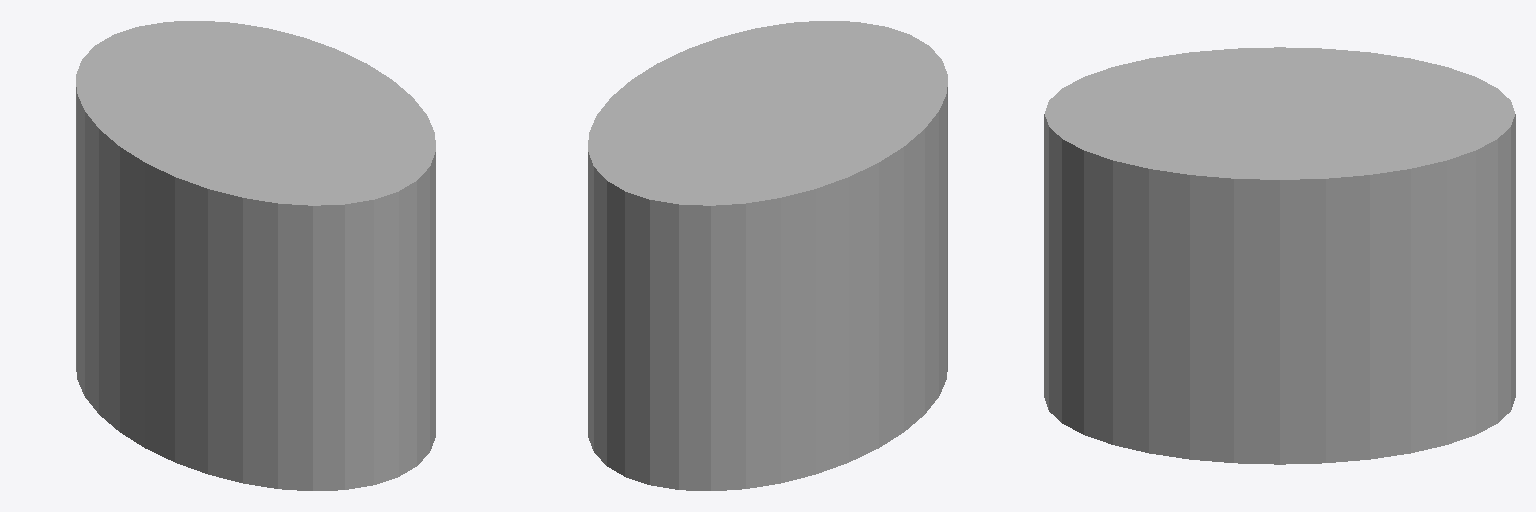
robot.urdf — root:
<robot name="root">
  <link name="link_001">
    <visual>
      <origin xyz="0 0 0" rpy="0 0 0"/>
      <geometry>
        <mesh filename="cylindermedium.obj" scale="1.0000E+00 1.5000E+00 1.0000E+00"/>
      </geometry>
      <material name="">
        <color rgba="7.50E-01 7.50E-01 7.50E-01 1"/>
      </material>
    </visual>
    <collision>
      <origin xyz="0 0 0" rpy="0 0 0"/>
      <geometry>
        <mesh filename="cylindermedium.obj" scale="1.0000E+00 1.5000E+00 1.0000E+00"/>
      </geometry>
    </collision>
    <inertial>
      <mass value="0.16"/> <!-- 质量：0.1kg -->
    </inertial>
  </link>
</robot>

--- Render facts (derived) ---
3 views of the same robot in one strip: view 1: azimuth 30°, elevation 25°; view 2: azimuth 150°, elevation 25°; view 3: azimuth 270°, elevation 25° (orthographic).
Model root with 1 links and 0 joints (none), rooted at link_001, posed every joint at zero.
Links seen in each view (by area): view 1: link_001; view 2: link_001; view 3: link_001.
Link boxes in pixels (<box>): link_001: <box>76,21,435,490</box>; link_001: <box>588,21,947,490</box>; link_001: <box>1044,47,1515,464</box>.
Size in the robot's own frame: 0.08 by 0.12 by 0.08 metres.
Meshes: 1 distinct files referenced, 1 mesh visuals loaded (1 OBJ).
